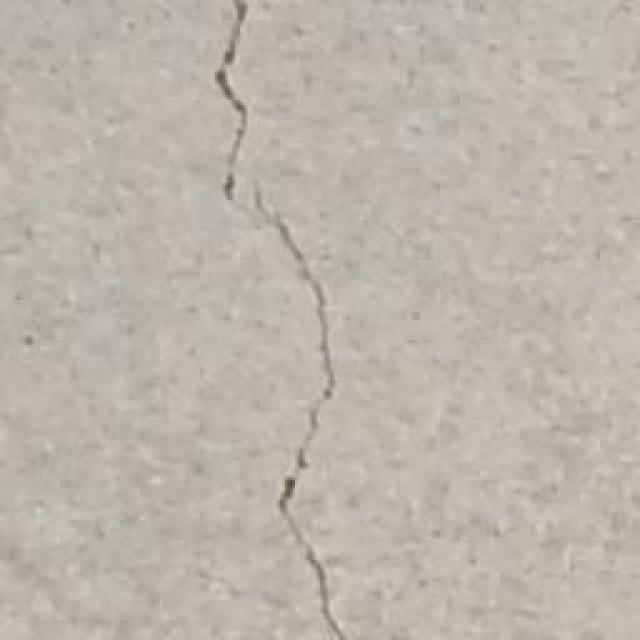concrete-crack: (255, 190, 345, 640), (215, 0, 250, 195)
